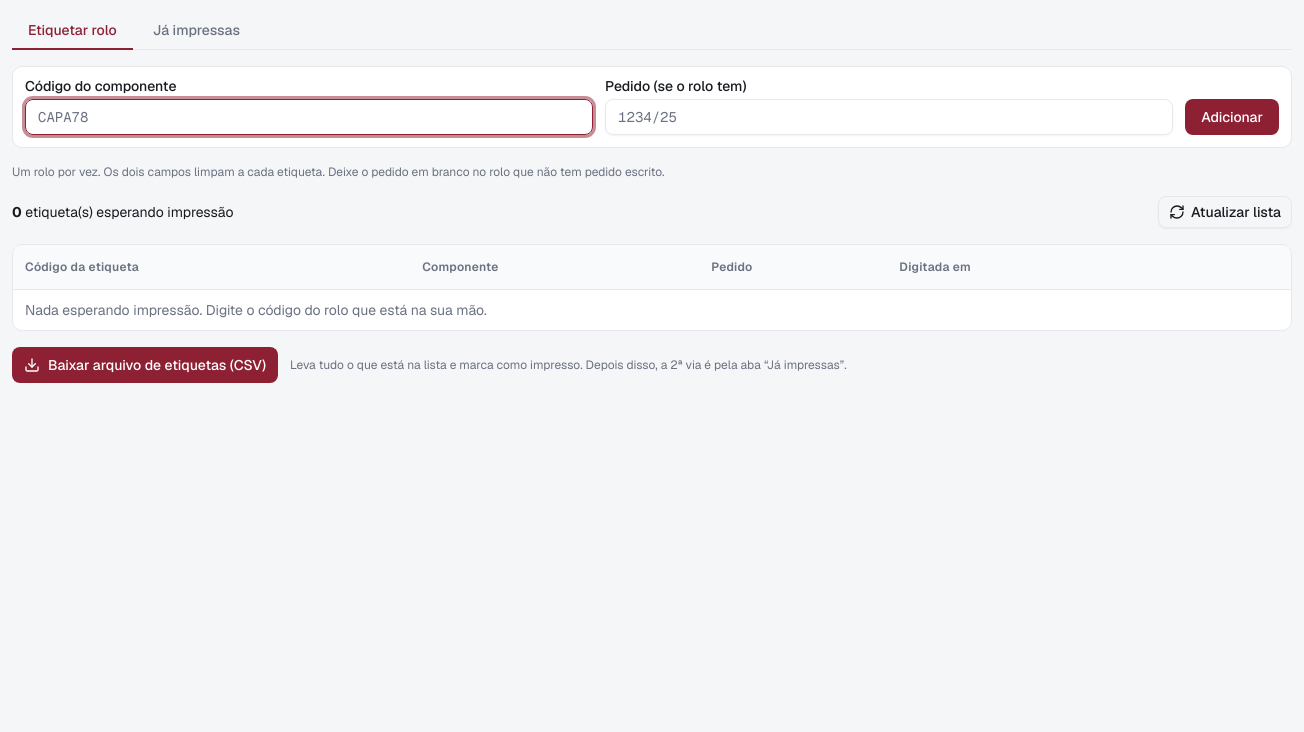
Test case: 2ª via das já impressas › busca que falhou não se passa por período sem etiqueta
Click the button "Já impressas". click: x=196, y=31
box: [137,12,256,50]
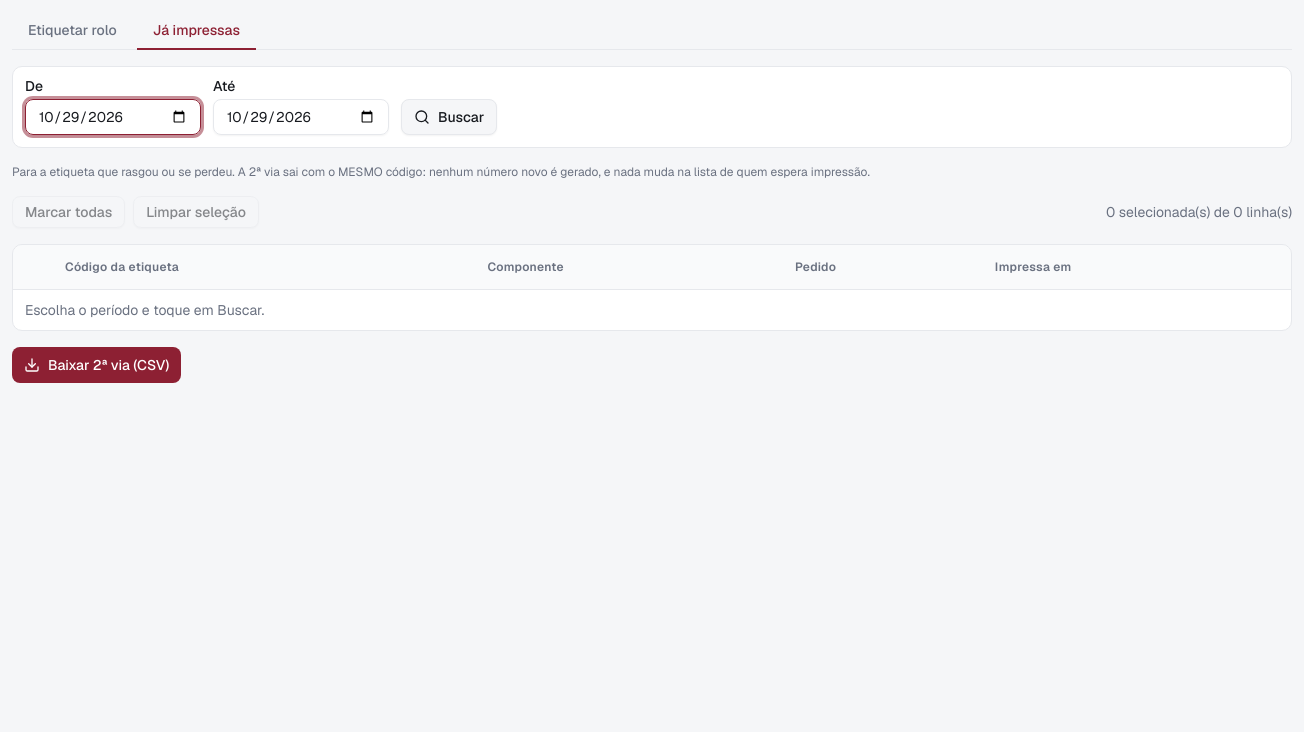
Click the button "Buscar". click: x=449, y=117
box: [401,99,497,135]
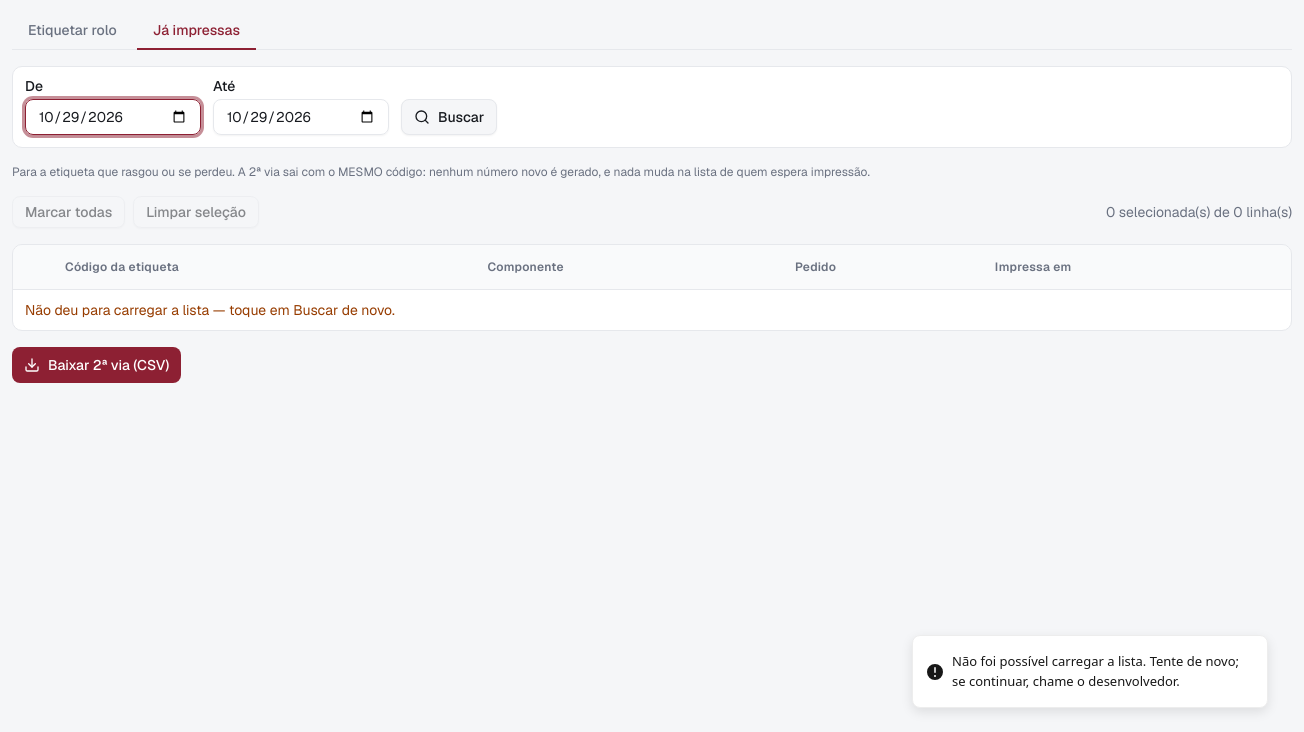
Result: the text "Não deu para carregar a lista — toque em Buscar de novo." is shown at [13,289,1291,330]
